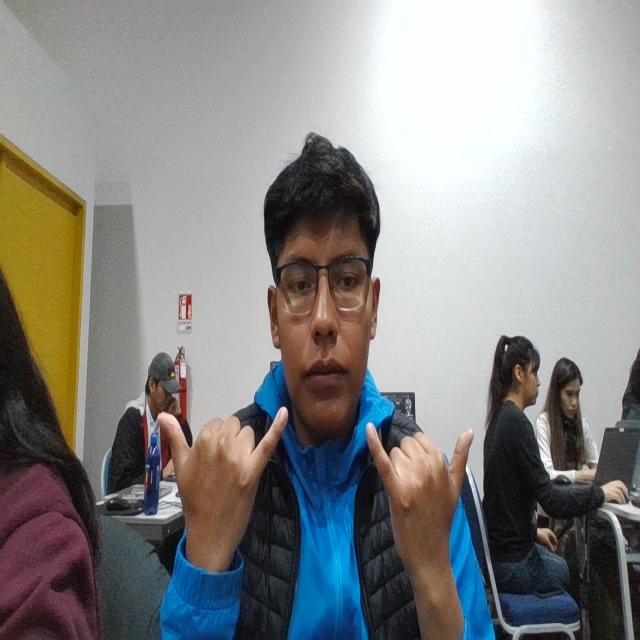now: (144, 402, 478, 582)
